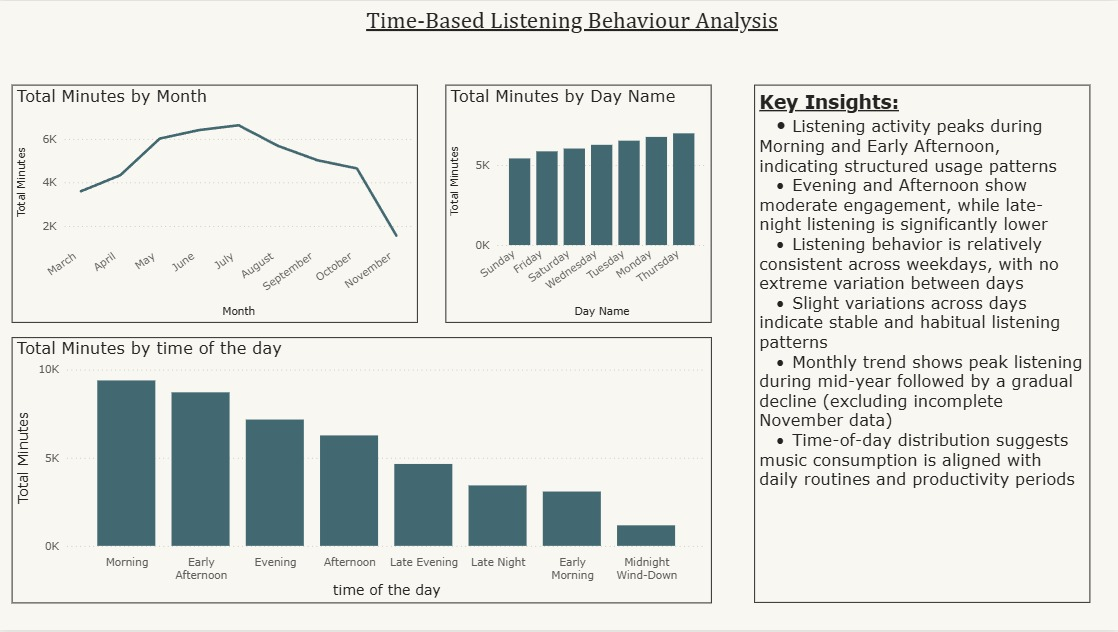

This screenshot's page, from the dashboard's own definition file:
{"tool":"powerbi","page":{"name":"Time-Based Listening Behaviour Analysis","canvas":[1280,720],"ordinal":2},"visuals":[{"type":"lineChart","fields":{"Category":["Dim_Date.Date.Variation.Date Hierarchy.Month","Dim_Date.Date.Variation.Date Hierarchy.Day"],"Y":["fact_listening_events3.Total Minutes"]},"box":[16,96,464,272],"z":0},{"type":"columnChart","fields":{"Category":["fact_listening_events3.time of the day"],"Y":["fact_listening_events3.Total Minutes"]},"box":[16,384,800,304],"z":1000},{"type":"columnChart","fields":{"Category":["Dim_Date.Day Name"],"Y":["fact_listening_events3.Total Minutes"]},"box":[512,96,304,272],"z":2000},{"type":"textbox","box":[416,0,624,48],"z":3000},{"type":"textbox","box":[864,96,384,592],"z":4000}]}

Visuals, with their boxes in screenshot pixels (x1, y1, x2, y2), scaled from the page's 1280x720 canvas onto the 1118x632 screenshot:
lineChart - Dim_Date.Date.Variation.Date Hierarchy.Month x Dim_Date.Date.Variation.Date Hierarchy.Day: 14,84,419,323
columnChart - fact_listening_events3.time of the day x fact_listening_events3.Total Minutes: 14,337,713,604
columnChart - Dim_Date.Day Name x fact_listening_events3.Total Minutes: 447,84,713,323
textbox: 363,0,908,42
textbox: 755,84,1090,604
